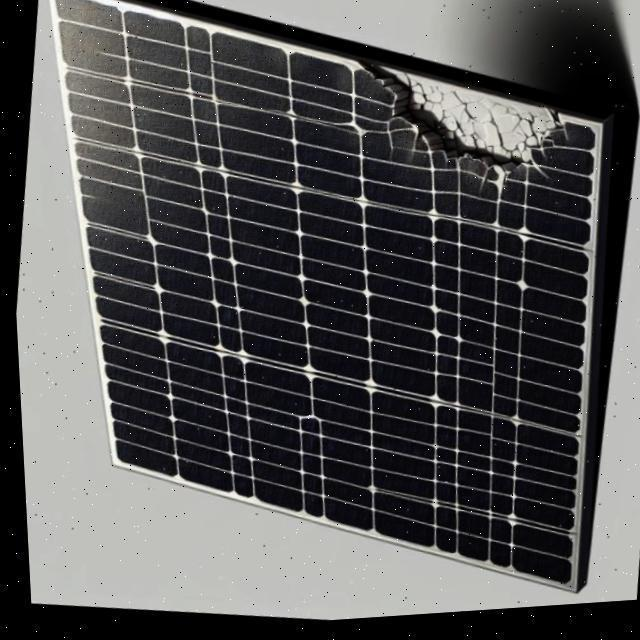Anomaly Solar Panel: (49, 0, 596, 600)
Structural Damage: (328, 66, 560, 197)
